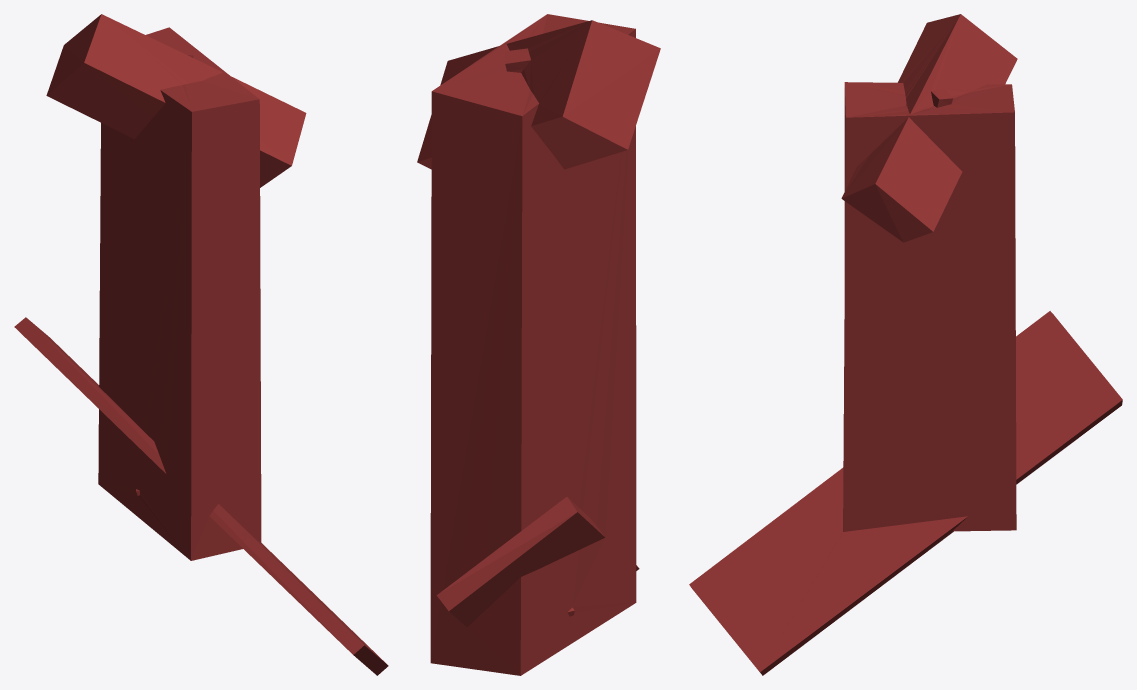
3 views of the same model, side by side, from view 1: azimuth 30°, elevation 25°; view 2: azimuth 150°, elevation 25°; view 3: azimuth 270°, elevation 25° (orthographic). The views are drawn at different scales.
Parts seen in each view (by area): view 1: 879_Cube.3552; view 2: 879_Cube.3552; view 3: 879_Cube.3552.
Boxes of the visible parts, x1,y1,x2,y2 form: 879_Cube.3552: [14, 14, 388, 675]; 879_Cube.3552: [417, 14, 660, 675]; 879_Cube.3552: [689, 14, 1122, 675].
Size of the model in its own units: 6.33 by 17.1 by 11.5.
